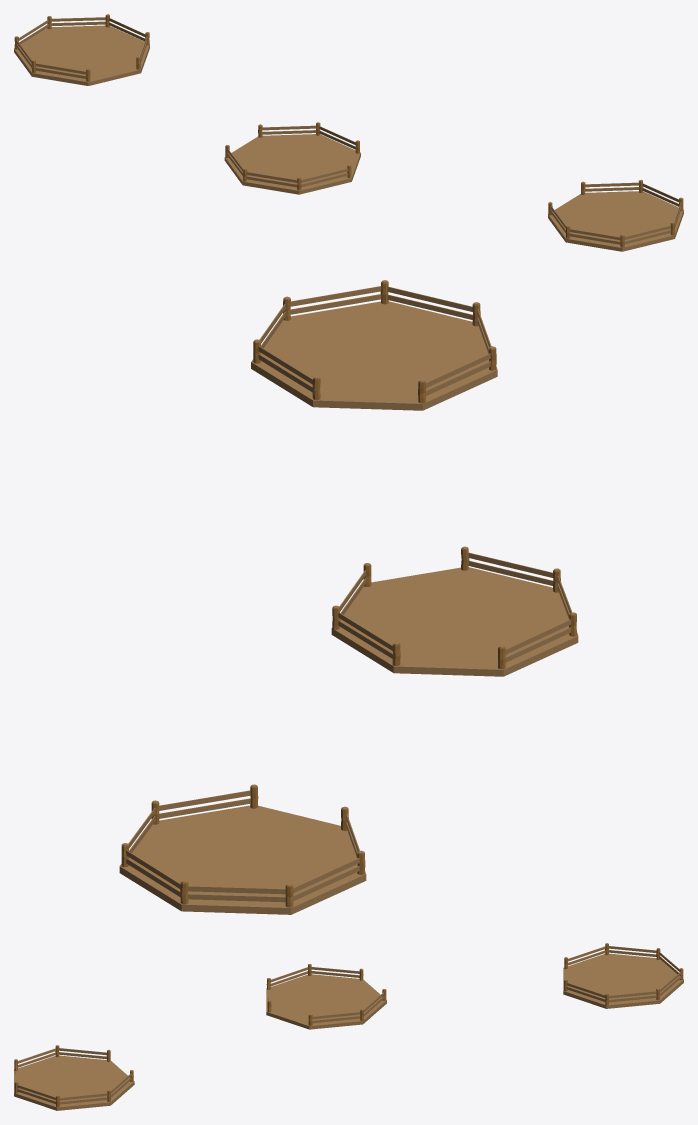
File: LV2TreeCondor.glb
3 renders of one model, top to bottom at view 1: azimuth 30°, elevation 25°; view 2: azimuth 150°, elevation 25°; view 3: azimuth 270°, elevation 25°, orthographic. The views are drawn at different scales.
Parts seen in each view (by area): view 1: Base.002, Base.001, Base, Fence.002, Fence.001, Fence; view 2: Base, Base.001, Base.002, Fence, Fence.002, Fence.001; view 3: Base.001, Base, Base.002, Fence, Fence.002, Fence.001.
Boxes of the visible parts, x1,y1,x2,y2 form: Base.002: [14, 25, 149, 85]; Base.001: [224, 134, 360, 194]; Base: [548, 191, 683, 251]; Fence.002: [548, 179, 683, 247]; Fence.001: [225, 122, 359, 190]; Fence: [14, 14, 149, 81]; Base: [251, 301, 497, 410]; Base.001: [331, 567, 578, 676]; Base.002: [119, 805, 366, 914]; Fence: [121, 784, 365, 907]; Fence.002: [253, 280, 496, 403]; Fence.001: [332, 546, 576, 669]; Base.001: [266, 974, 386, 1029]; Base: [14, 1055, 134, 1110]; Base.002: [563, 953, 683, 1008]; Fence: [564, 943, 683, 1005]; Fence.002: [14, 1045, 133, 1107]; Fence.001: [266, 964, 386, 1025].
Bounding box in the file's own units: 18.91 × 0.8073 × 34.71.
